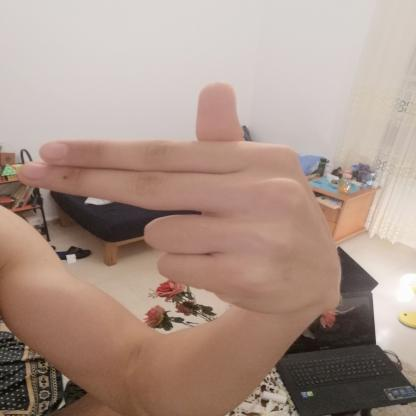GHAYN: (7, 71, 360, 334)
